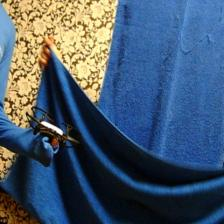drone: (25, 105, 79, 152)
